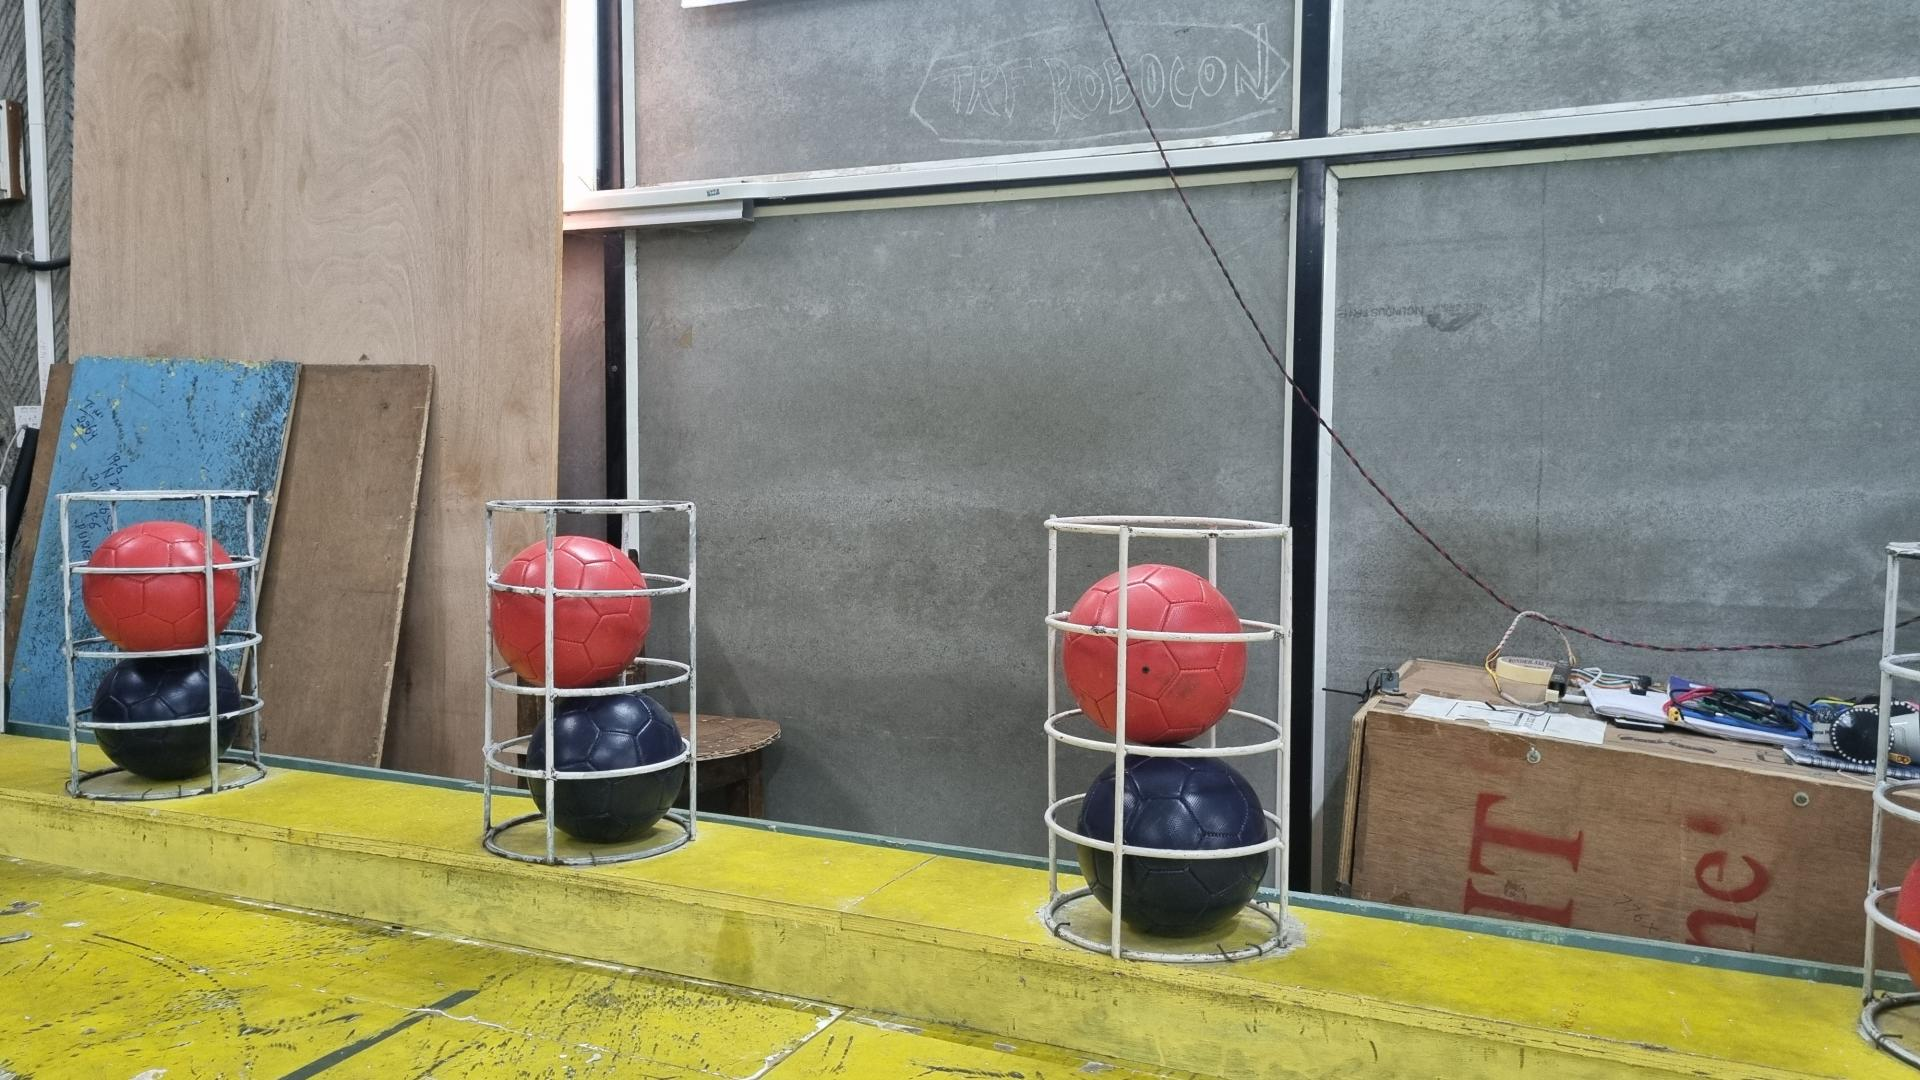dhoka: (1076, 757, 1271, 940), (525, 694, 686, 843), (90, 651, 244, 783)
laale: (1062, 566, 1249, 745), (492, 535, 653, 690), (83, 521, 240, 651), (1894, 858, 1920, 989)
